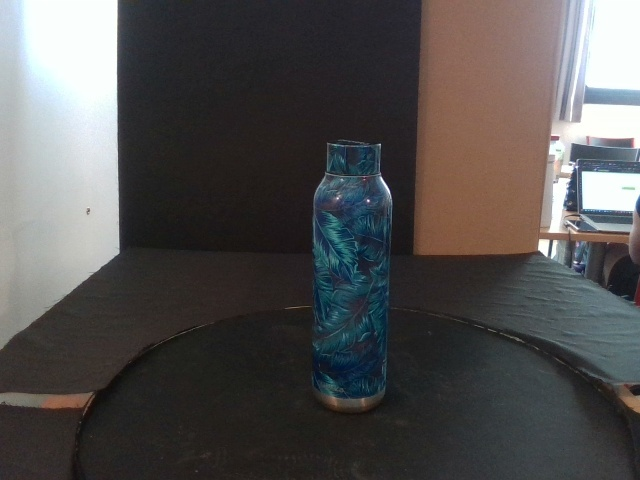bottle: (311, 139, 394, 415)
